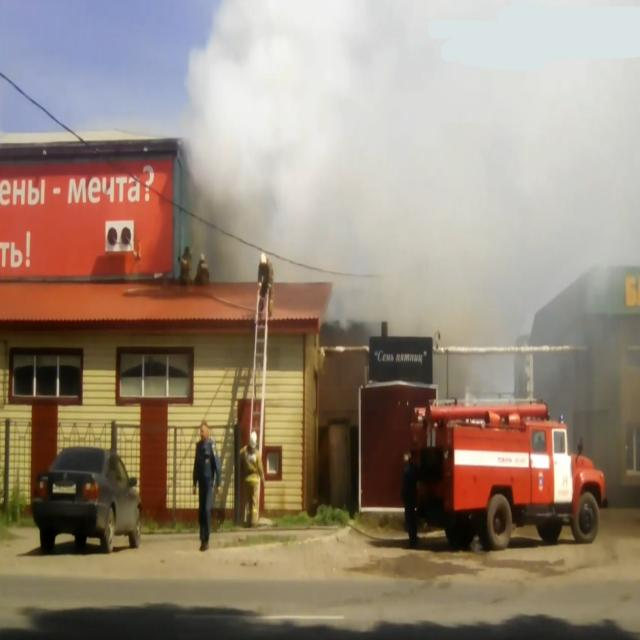fire fighting vehicle: (411, 392, 606, 551)
non emergency car: (32, 446, 144, 556)
